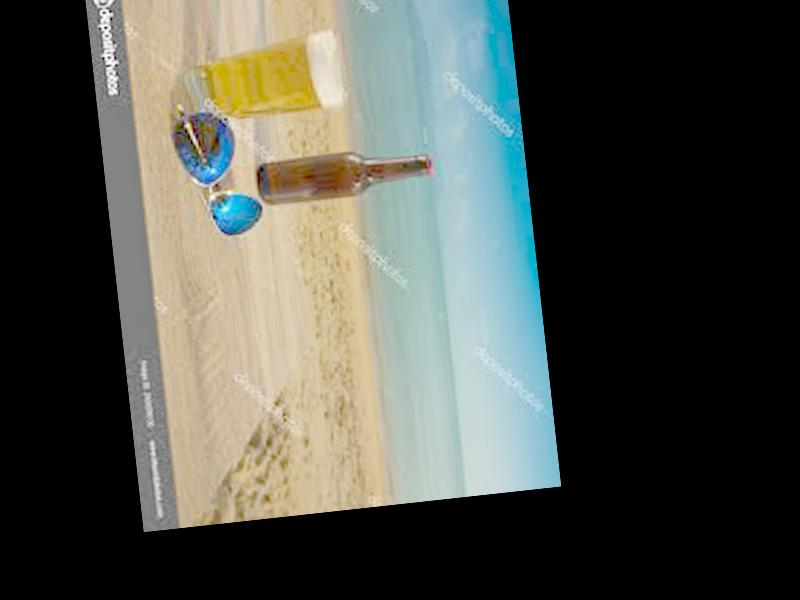Beer: (256, 143, 435, 206)
